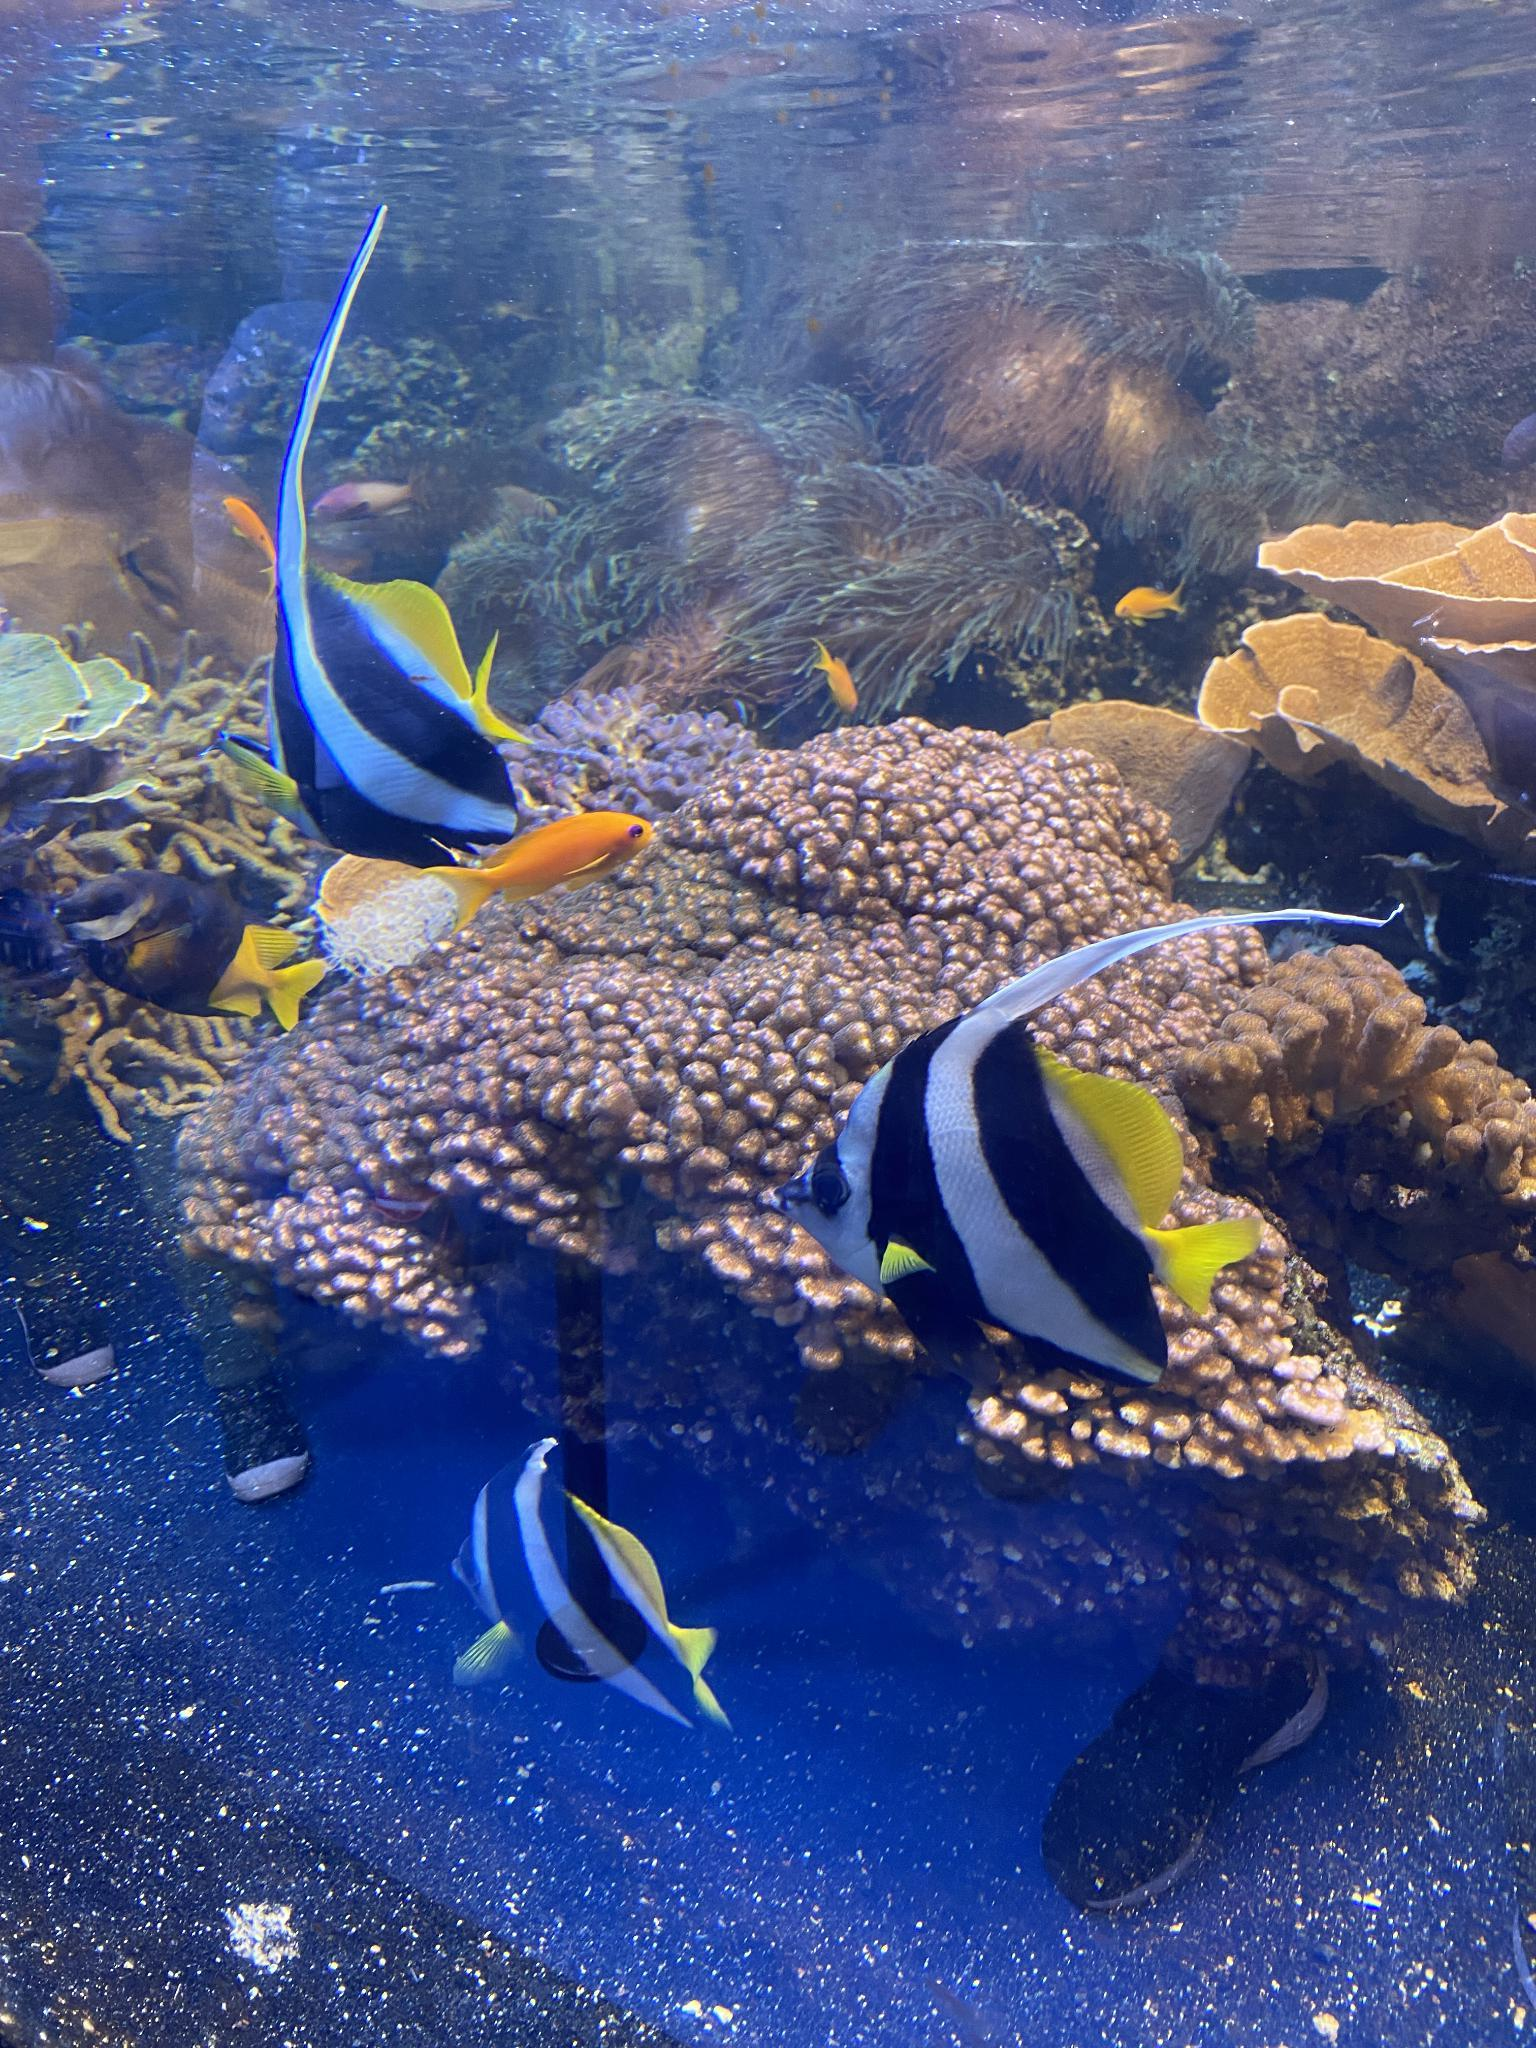fish: (753, 1013, 1255, 1388), (224, 563, 523, 871), (450, 1434, 737, 1737), (53, 872, 328, 1030), (431, 811, 653, 942), (311, 464, 429, 524), (219, 497, 276, 605), (1113, 572, 1184, 626), (812, 639, 860, 714)
